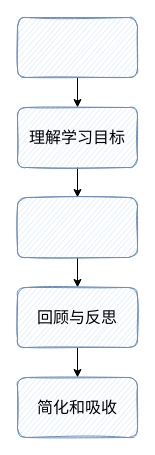
Image size: 155x455. Some labels were removed from this diagram. The centre of each missing label's shape, as x and y in pixels:
"确立学习对象" goes at point 77,47.
"输出" goes at point 77,227.
